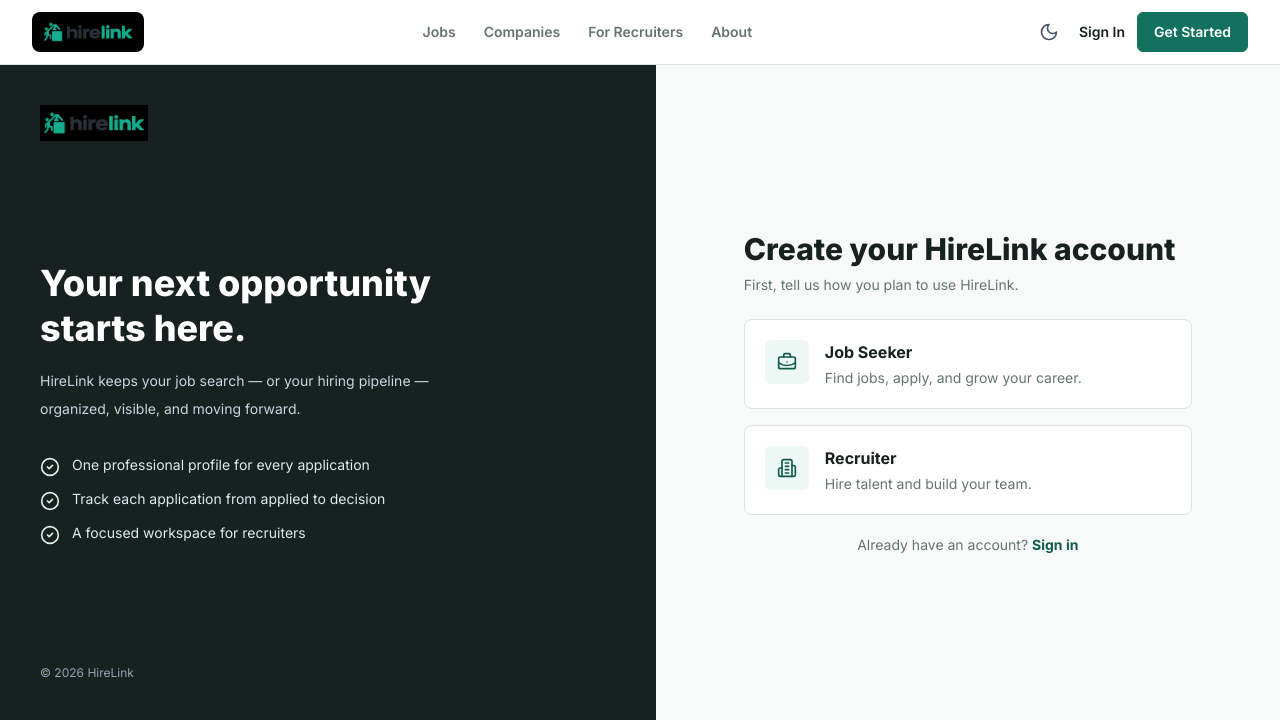
Test: Auth Pages › RegisterPage › shows the registration form after choosing a role
The image size is (1280, 720).
Click the button "Job Seeker Find jobs, apply, and grow your career." at (787, 362), box [744,319,1192,409]
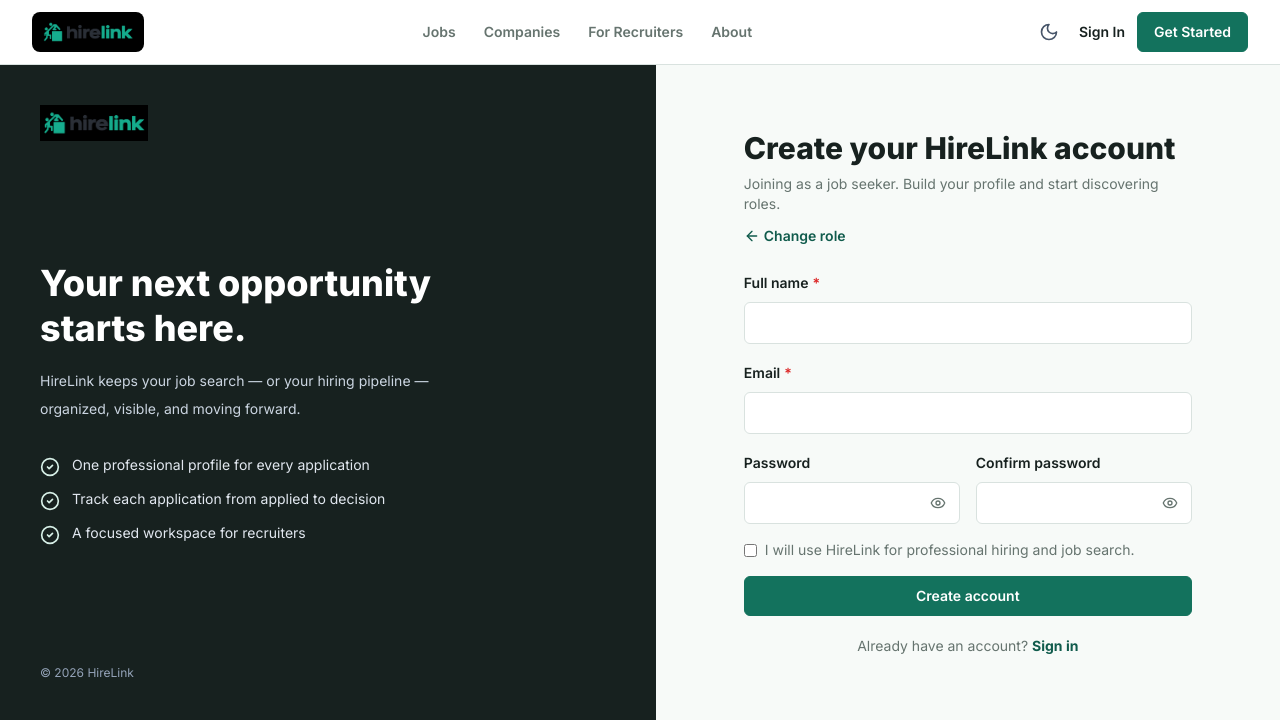
Now the text "Full name" is shown, box [744,274,808,291]
